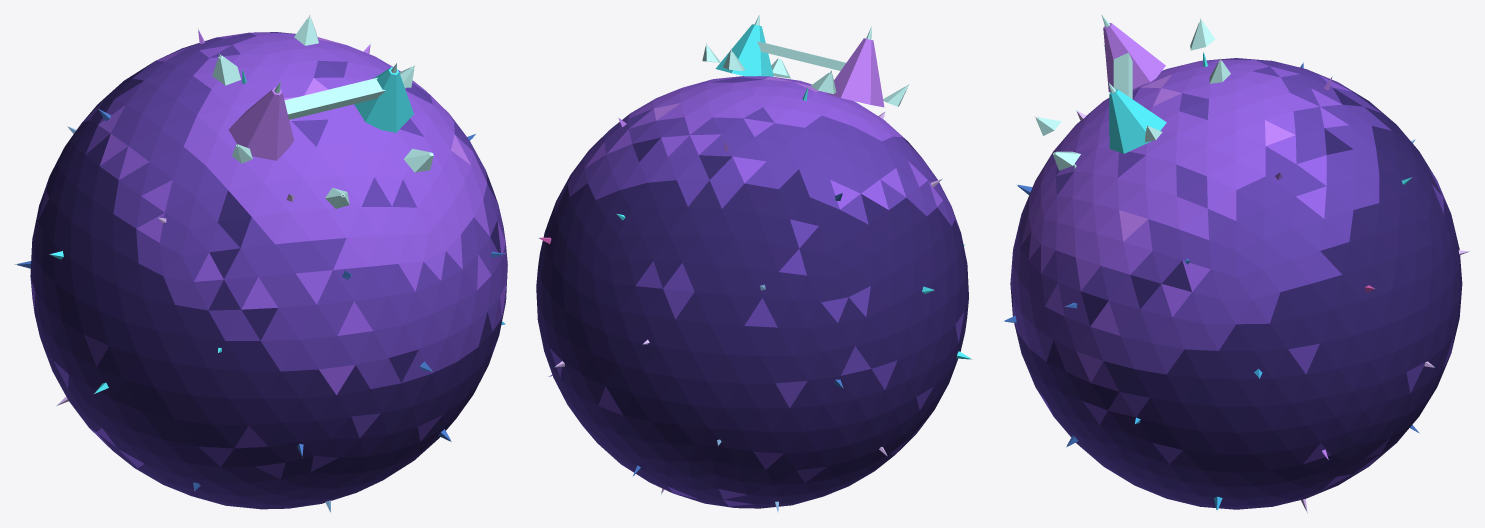
The model's file is Crystal_07.fbx.
3 renders of one model, left to right at view 1: azimuth 30°, elevation 25°; view 2: azimuth 150°, elevation 25°; view 3: azimuth 270°, elevation 25°, orthographic. The views are drawn at different scales.
Parts seen in each view (by area): view 1: Crystal_07; view 2: Crystal_07; view 3: Crystal_07.
Part boxes in pixels (x1,y1,x2,y2): Crystal_07: (14,15,507,512); Crystal_07: (536,14,972,512); Crystal_07: (1003,14,1469,512).
Bounding box in the file's own units: 6.25 × 6.58 × 6.22.
Materials: 1 (1 with a texture image).
